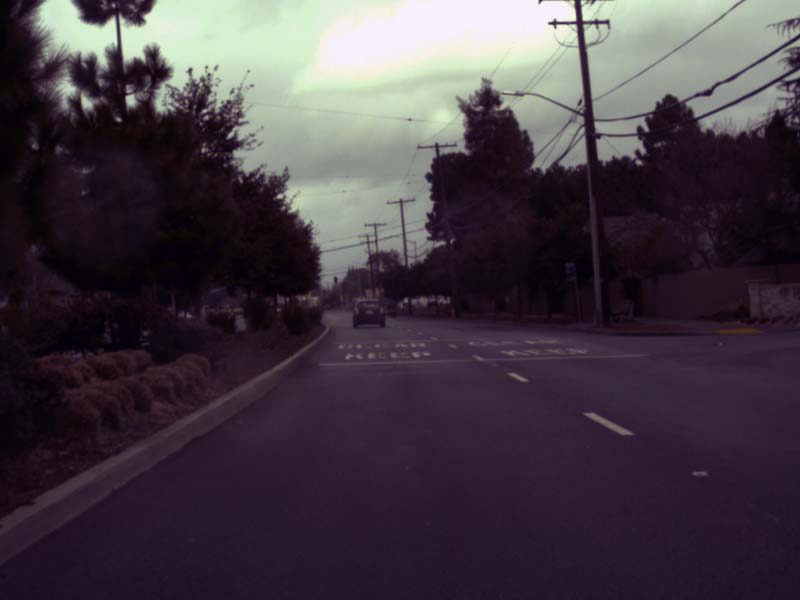Green: (333, 276, 337, 283)
